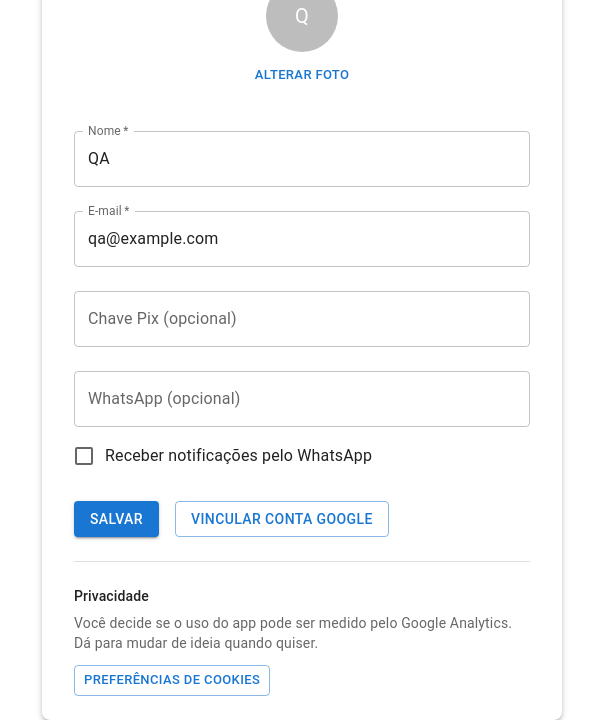
Test: reabertura do consentimento pelo perfil › mostra a entrada de preferências e reabre o banner ao clicar
This screenshot has width=605, height=720.
(page scrolled)
Expected: the heading "Privacidade" is shown, x1=74 y1=588 x2=149 y2=604
Expected: the text "Usamos cookies do Google Analytics" is not shown
Click the button "Preferências de cookies".
click(172, 680)  # box x1=74 y1=665 x2=270 y2=696
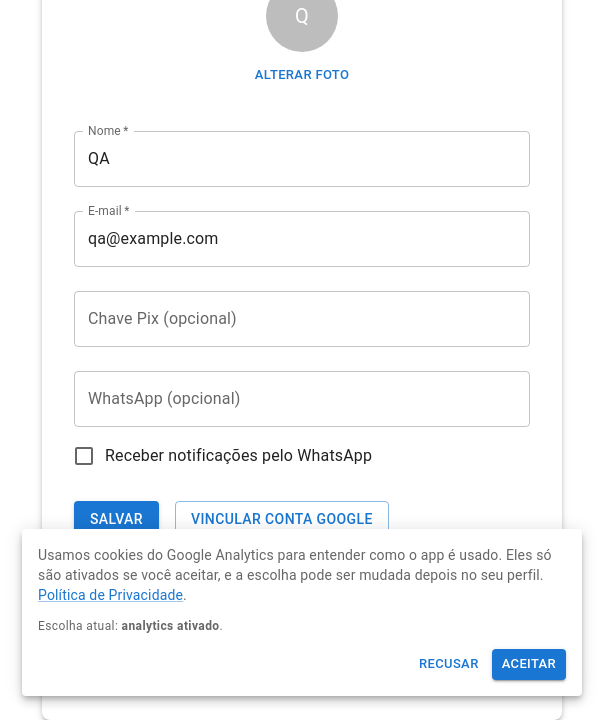
Expected: the text "Usamos cookies do Google Analytics" is shown, x1=38 y1=547 x2=552 y2=583
Expected: the text "analytics ativado" is shown, x1=122 y1=619 x2=220 y2=633
